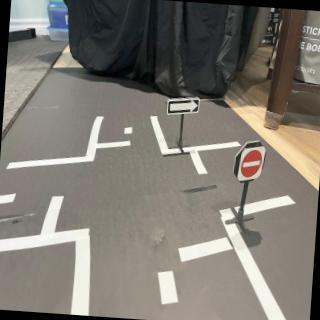sign_noentry: (237, 143, 267, 187)
sign_oneway_right: (167, 93, 202, 119)
